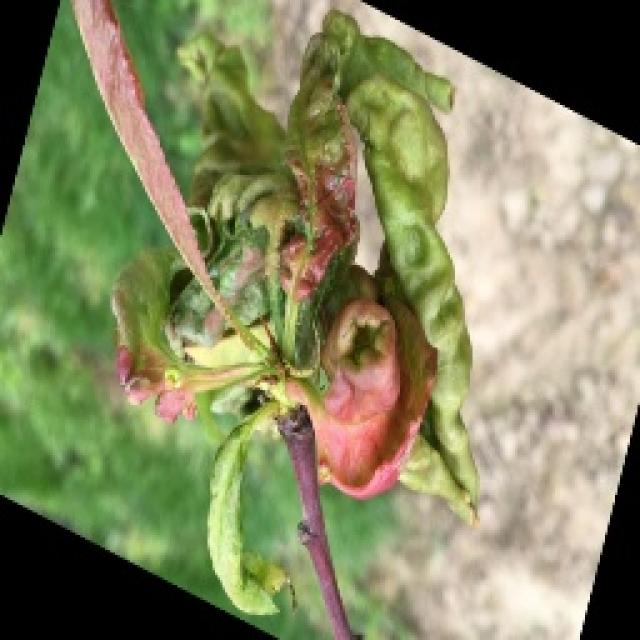peach_leaf_curl: (105, 5, 483, 625)
